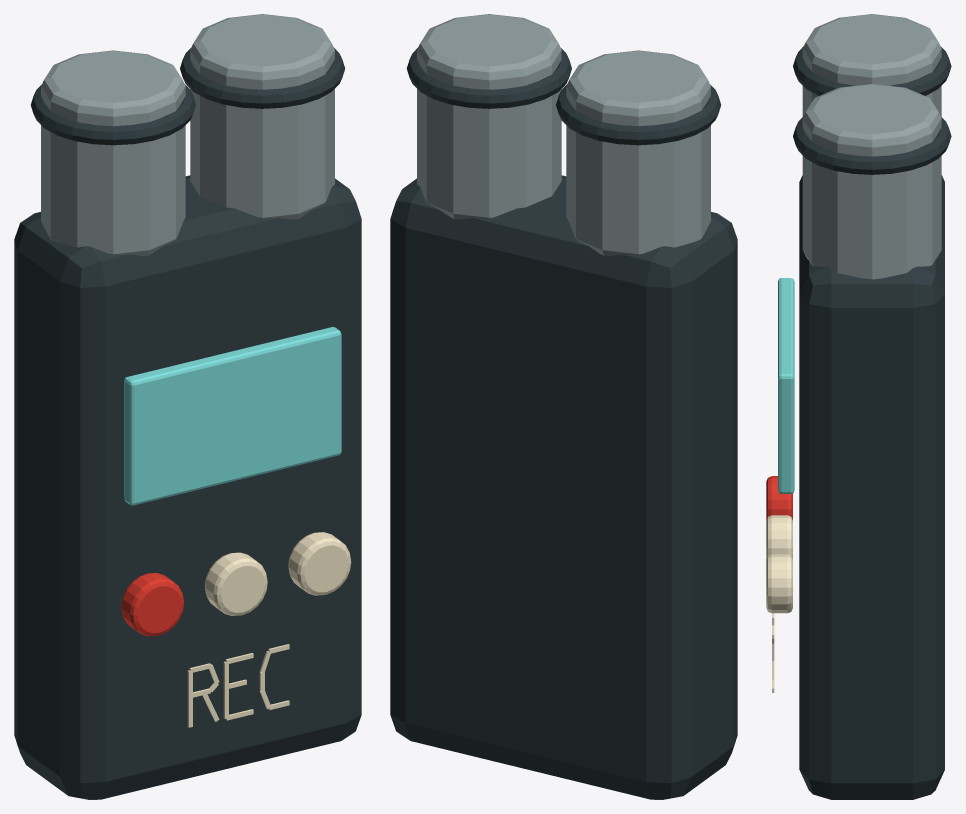
The model's file is P060_audio_recorder.glb.
3 views of the same model, side by side, from view 1: azimuth 30°, elevation 25°; view 2: azimuth 150°, elevation 25°; view 3: azimuth 270°, elevation 25° (orthographic). The views are drawn at different scales.
Visible parts, largest first — view 1: P060_body_001, P060_screen_002, P060_mic_003, P060_mic_005, P060_grille_004, P060_grille_006, P060_button_009, P060_button_008, P060_button_007, P060_mark_010; view 2: P060_body_001, P060_mic_003, P060_mic_005, P060_grille_004, P060_grille_006; view 3: P060_body_001, P060_mic_005, P060_mic_003, P060_screen_002, P060_grille_006, P060_grille_004, P060_button_009, P060_button_008, P060_button_007.
Boxes of the visible parts, <box> form: P060_body_001: <box>14,175,361,799</box>; P060_screen_002: <box>124,327,341,505</box>; P060_mic_003: <box>41,50,185,255</box>; P060_mic_005: <box>190,14,334,219</box>; P060_grille_004: <box>31,84,195,145</box>; P060_grille_006: <box>180,48,345,108</box>; P060_button_009: <box>288,532,351,595</box>; P060_button_008: <box>204,552,267,615</box>; P060_button_007: <box>121,573,183,636</box>; P060_mark_010: <box>187,644,289,727</box>; P060_body_001: <box>390,175,737,799</box>; P060_mic_003: <box>566,50,710,255</box>; P060_mic_005: <box>417,14,561,219</box>; P060_grille_004: <box>556,84,720,145</box>; P060_grille_006: <box>406,48,571,108</box>; P060_body_001: <box>799,175,944,799</box>; P060_mic_005: <box>802,84,941,279</box>; P060_mic_003: <box>802,14,941,116</box>; P060_screen_002: <box>778,278,794,493</box>; P060_grille_006: <box>793,116,951,174</box>; P060_grille_004: <box>793,46,951,95</box>; P060_button_009: <box>766,554,792,613</box>; P060_button_008: <box>766,515,792,559</box>; P060_button_007: <box>766,476,792,520</box>.
Size of the model in its own units: 0.1 by 0.223 by 0.056.
